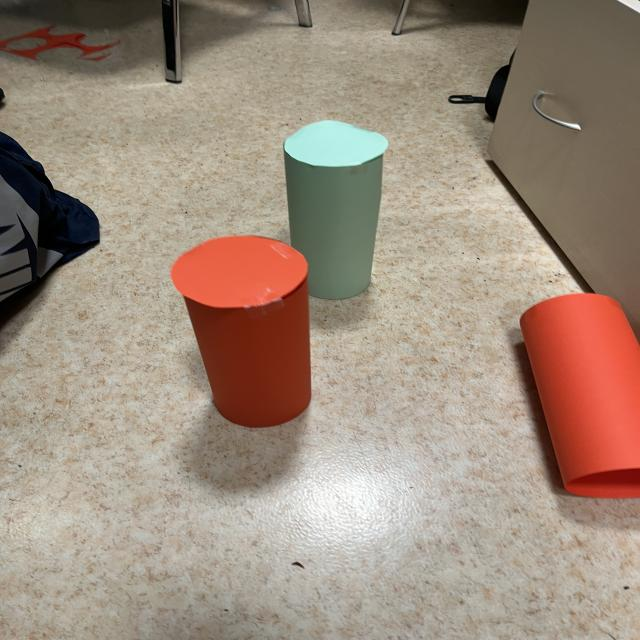meta: (283, 120, 388, 299)
przeszkoda: (171, 236, 311, 427), (520, 294, 640, 498)
